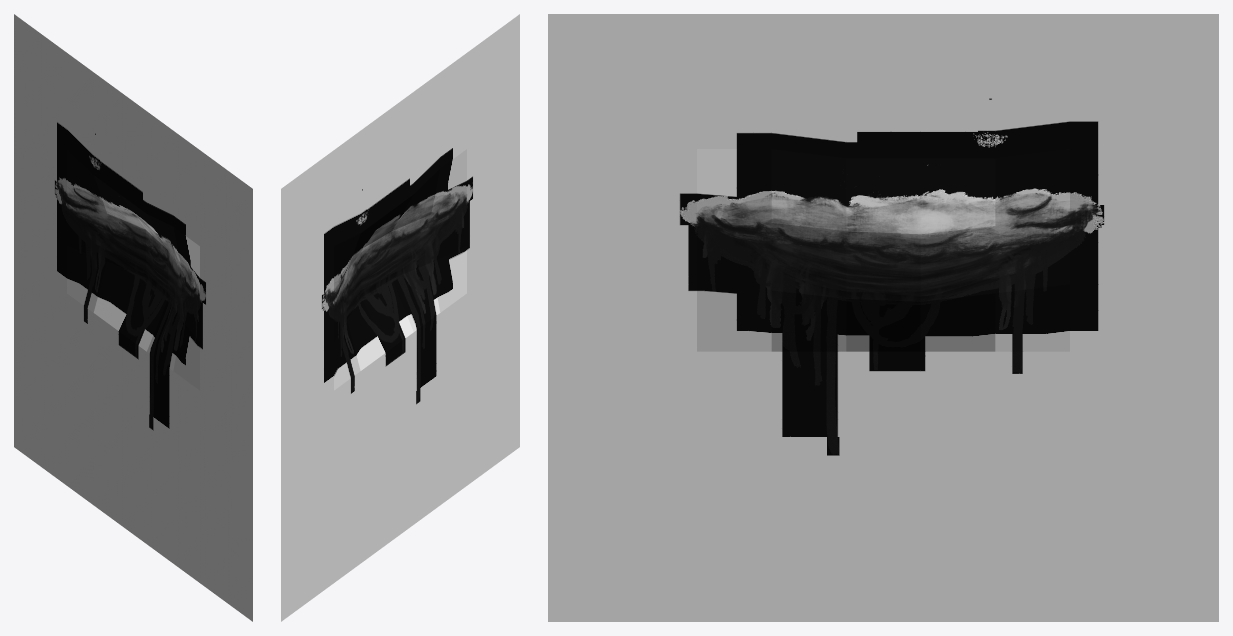
Rendered from plateforme.obj.
3 views of the same model, side by side, from view 1: azimuth 30°, elevation 25°; view 2: azimuth 150°, elevation 25°; view 3: azimuth 270°, elevation 25° (orthographic). The views are drawn at different scales.
Visible parts, largest first — view 1: Grid.004_Grid.001; view 2: Grid.004_Grid.001; view 3: Grid.004_Grid.001.
Boxes of the visible parts, x1,y1,x2,y2 form: Grid.004_Grid.001: [14, 14, 252, 621]; Grid.004_Grid.001: [281, 14, 519, 621]; Grid.004_Grid.001: [548, 14, 1218, 621].
Bounding box in the file's own units: 0.2487 × 4 × 4.
